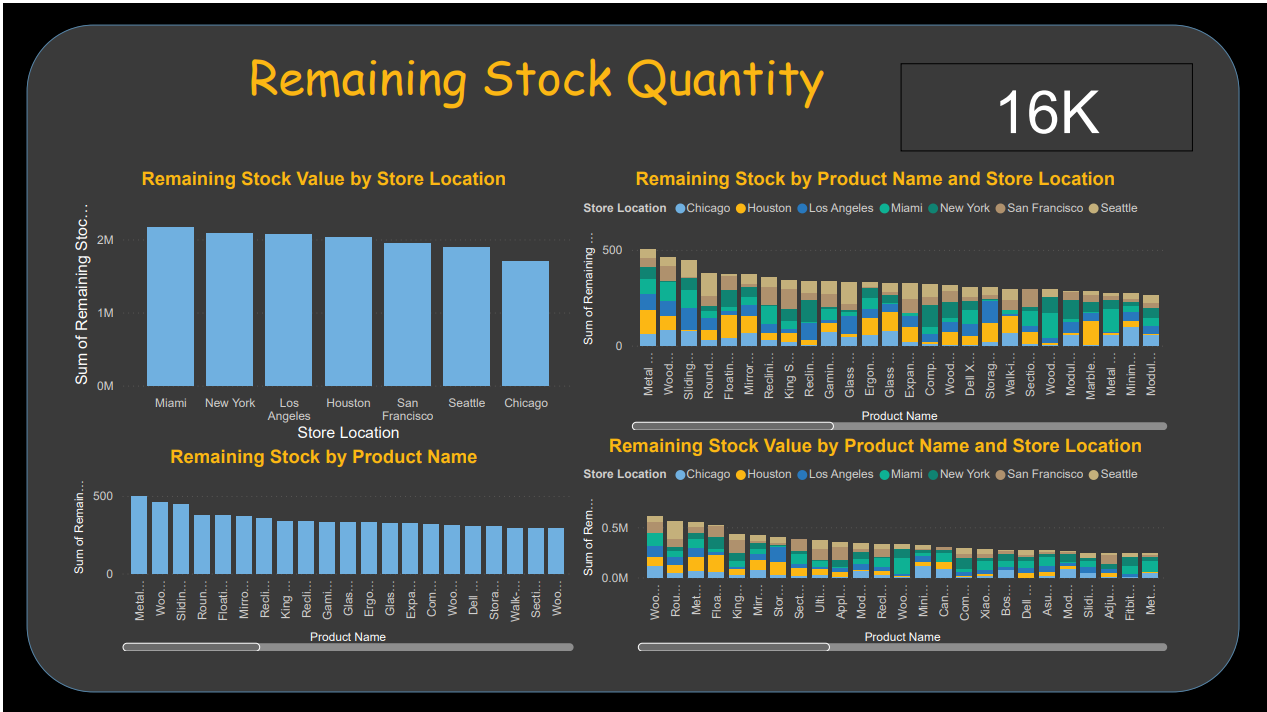

Layout of this report page (visuals, bound fields, positions):
{"tool":"powerbi","page":{"name":"Page 3","canvas":[1280,720],"ordinal":2},"visuals":[{"type":"shape","box":[22.7,20.8,1224.6,674.7],"z":500},{"type":"columnChart","title":"Remaining Stock Value by Store Location","fields":{"Category":["Home Appliance Inventory.Store Location"],"Y":["Sum(Home Appliance Inventory.Remaining Stock Value)"]},"box":[66.1,166.3,514,279.7],"z":1000},{"type":"columnChart","title":"Remaining Stock by Product Name","fields":{"Category":["Home Appliance Inventory.Product Name"],"Y":["Sum(Home Appliance Inventory.Remaining Stock Quantity)"]},"box":[66.1,446,514,211.7],"z":2000},{"type":"columnChart","title":"Remaining Stock by Product Name and Store Location","fields":{"Category":["Home Appliance Inventory.Product Name"],"Y":["Sum(Home Appliance Inventory.Remaining Stock Quantity)"],"Series":["Home Appliance Inventory.Store Location"]},"box":[580.2,166.3,599.1,268.3],"z":3000},{"type":"columnChart","title":"Remaining Stock Value by Product Name and Store Location","fields":{"Y":["Sum(Home Appliance Inventory.Remaining Stock Value)"],"Category":["Home Appliance Inventory.Product Name"],"Series":["Home Appliance Inventory.Store Location"]},"box":[580.2,434.6,599.1,223],"z":4000},{"type":"textbox","box":[128.5,34,818.3,88.8],"z":5000},{"type":"card","fields":{"Values":["Sum(Home Appliance Inventory.Remaining Stock Quantity)"]},"box":[905.2,60.5,294.8,88.8],"z":6000}]}

Visuals, with their boxes in screenshot pixels (x1, y1, x2, y2), scaled from the page's 1280x720 canvas onto the 1267x712 screenshot:
shape: region(22, 21, 1235, 688)
"Remaining Stock Value by Store Location" columnChart: region(65, 164, 574, 441)
"Remaining Stock by Product Name" columnChart: region(65, 441, 574, 650)
"Remaining Stock by Product Name and Store Location" columnChart: region(574, 164, 1167, 430)
"Remaining Stock Value by Product Name and Store Location" columnChart: region(574, 430, 1167, 650)
textbox: region(127, 34, 937, 121)
card - Sum(Home Appliance Inventory.Remaining Stock Quantity): region(896, 60, 1188, 148)
